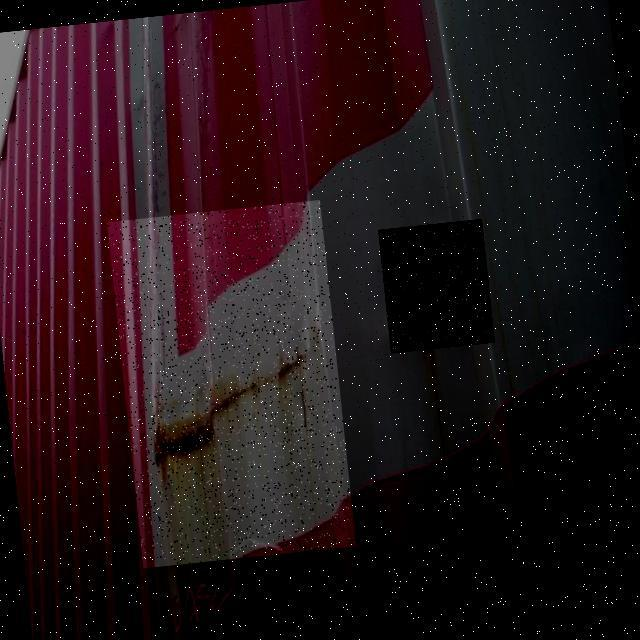Dent: (107, 200, 356, 568)
Minor-Dent: (378, 219, 494, 353)
